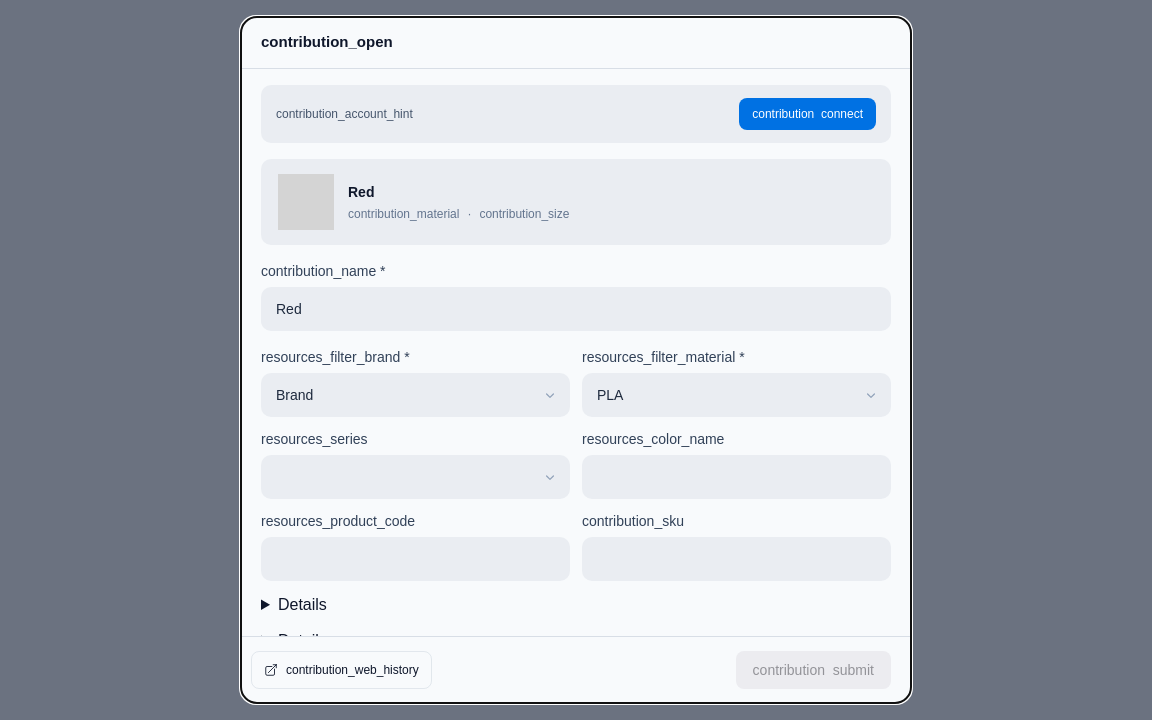
Test case: connects the existing account without submitting or losing entered fields
expect the field showing "Red" is shown: met, box [261,286,891,330]
In the dropdown labelled "resources_series": (416, 476) [261,454,570,498], type "Basic"
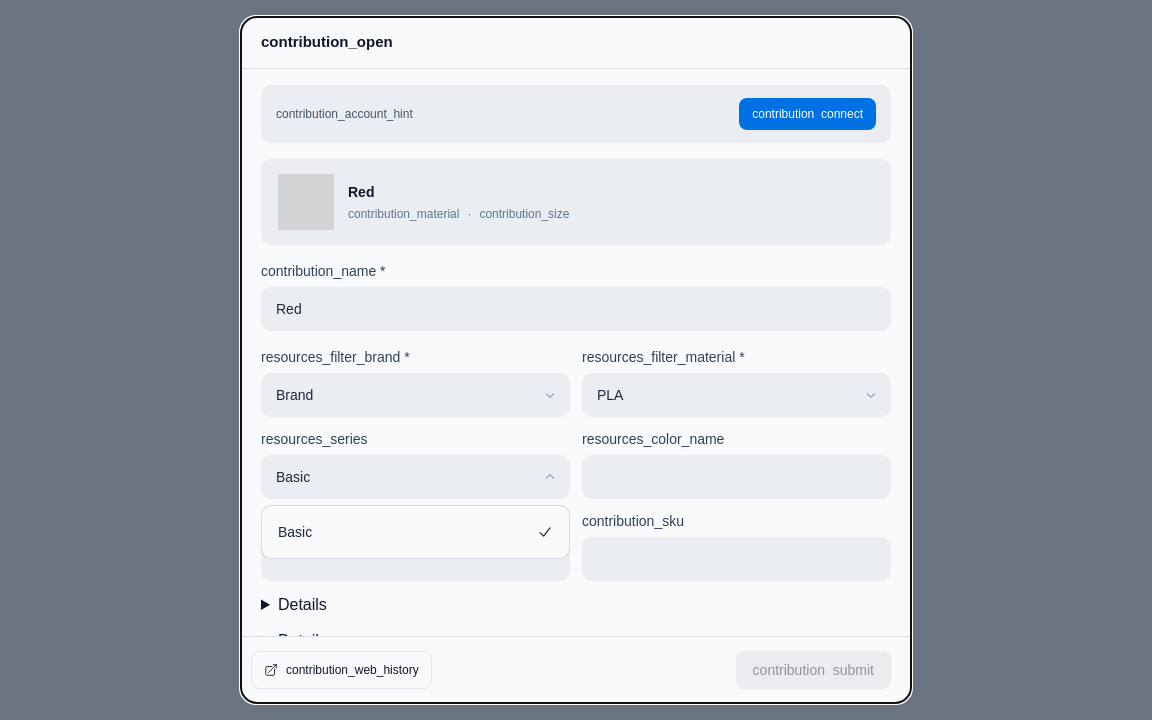
Click the button "contribution_connect": (808, 114) [739,98,876,130]
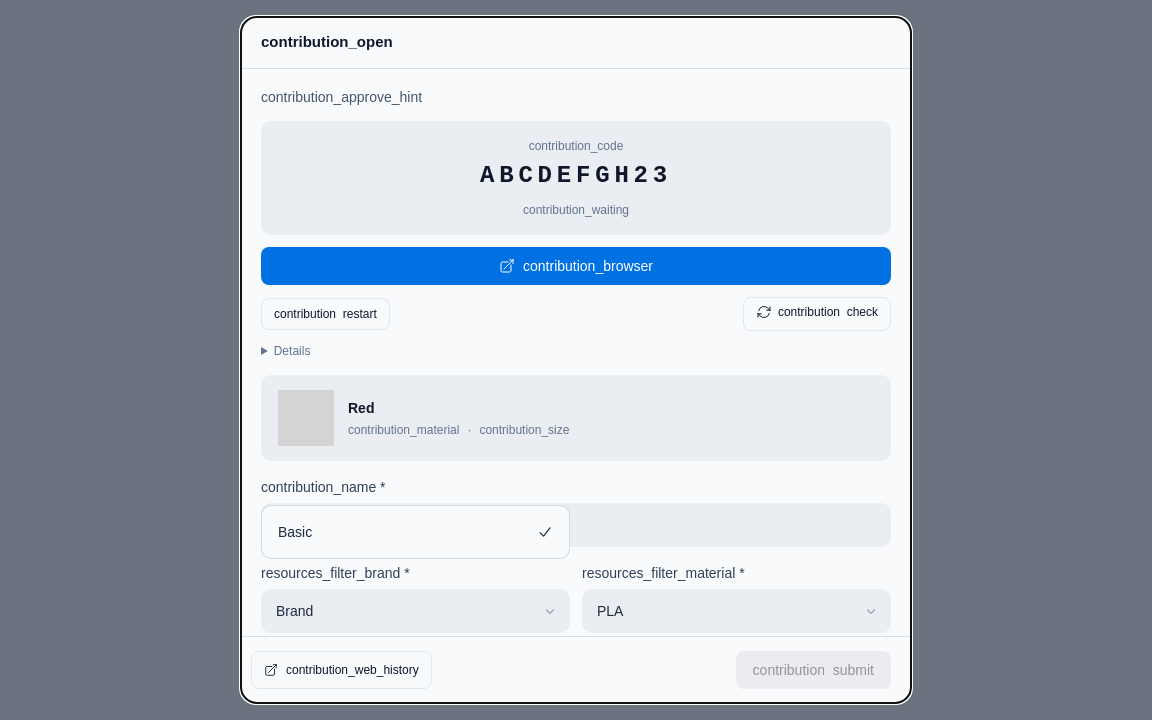
expect the text "ABCDEFGH23" is shown: met, box [480,160,672,192]
